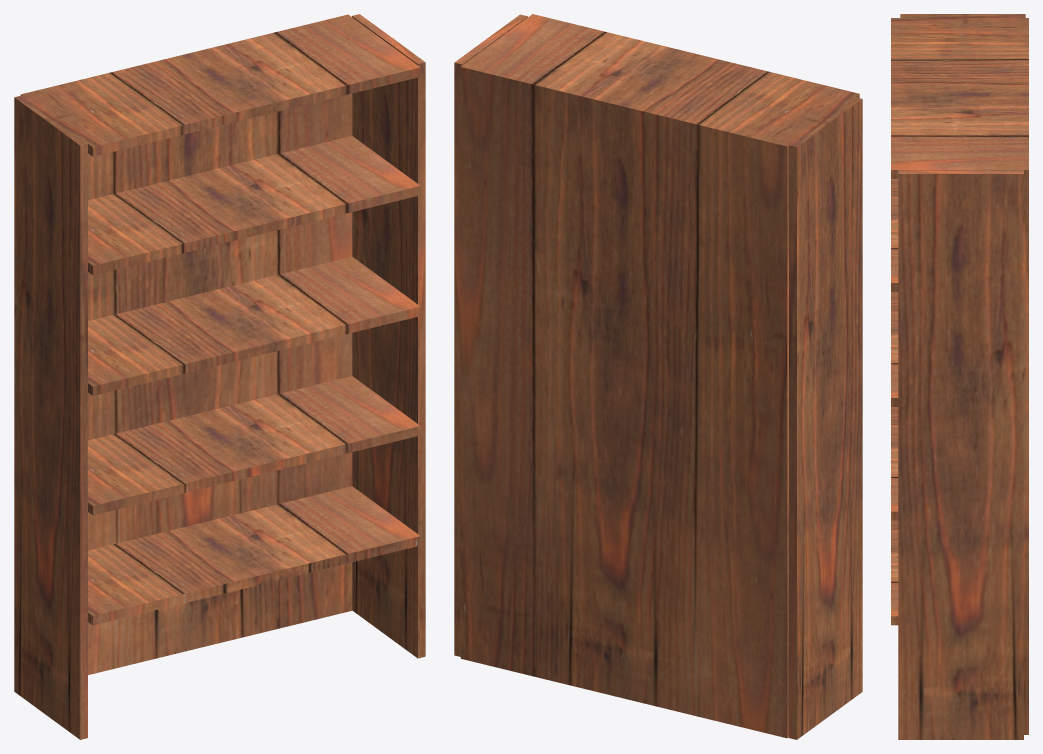
The model's file is bookcase.dae.
3 renders of one model, left to right at view 1: azimuth 30°, elevation 25°; view 2: azimuth 150°, elevation 25°; view 3: azimuth 270°, elevation 25°, orthographic. The views are drawn at different scales.
Visible parts, largest first — view 1: Bookcase-col; view 2: Bookcase-col; view 3: Bookcase-col.
Boxes of the visible parts, x1,y1,x2,y2 form: Bookcase-col: (14, 14, 425, 739); Bookcase-col: (454, 14, 862, 739); Bookcase-col: (891, 14, 1028, 739).
Size of the model in its own units: 3.23 by 1.17 by 5.32.
Materials: 1 (1 with a texture image).
